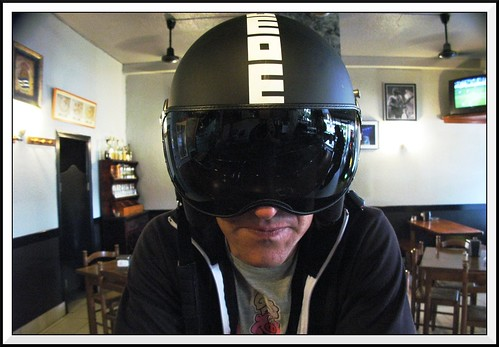helmet: (144, 12, 362, 209)
